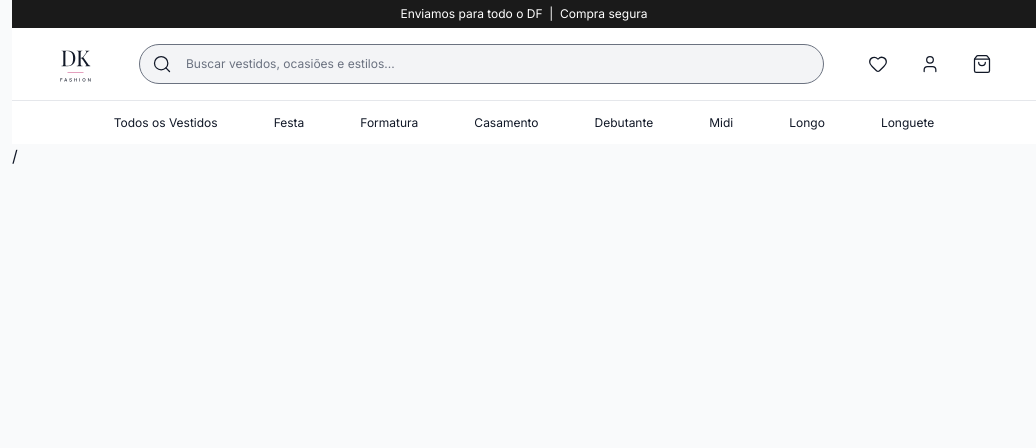
Test case: Header › mostra os módulos internos para {"id":"u-003","name":"Ana Vendas","email":"ana@dk.com","role":"employee","sellerCode":"ANA01","commissionRate":5}
This screenshot has width=1036, height=448.
What coordinates should you click on to do the following:
click the button named "Minha conta"
I would click on:
 (930, 64)
Its box is [908,42,952,86].
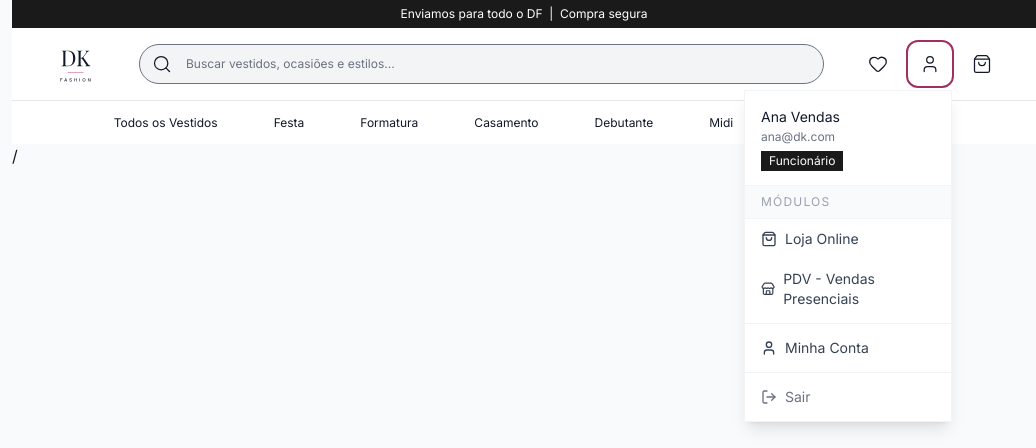
Check: the text "Funcionário" is shown, box [761,151,843,171]
Check: the link "PDV - Vendas Presenciais" is shown, box [761,270,875,307]
